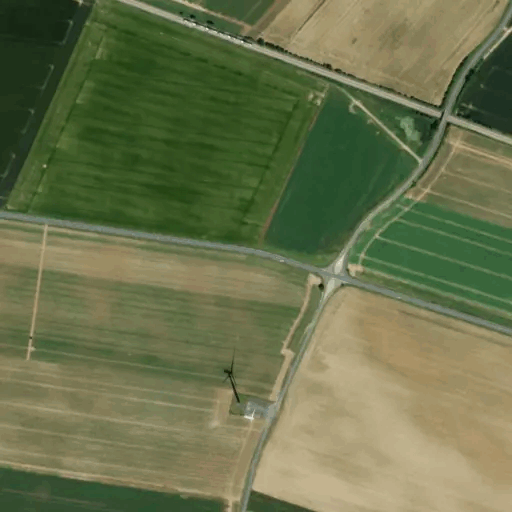wt: (218, 348, 261, 428)
